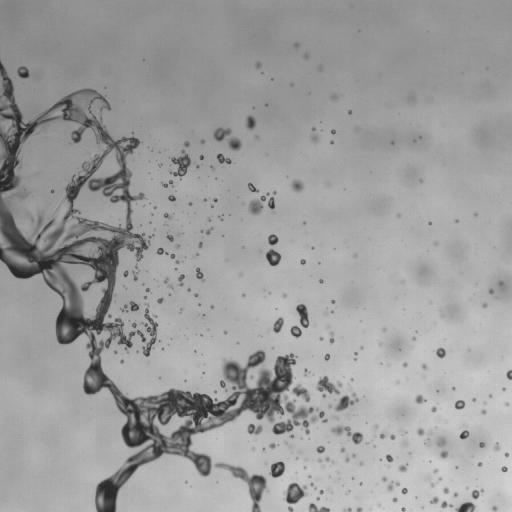droplet: (283, 482, 307, 511), (169, 150, 191, 178), (316, 376, 342, 397), (266, 249, 281, 266), (213, 127, 231, 141), (270, 461, 284, 477), (272, 317, 283, 333), (228, 137, 241, 150), (247, 423, 262, 434), (291, 179, 303, 192), (17, 66, 29, 78), (290, 325, 301, 338), (246, 115, 255, 129), (268, 234, 278, 245), (435, 347, 445, 358), (471, 489, 483, 498), (454, 400, 464, 409), (415, 395, 426, 403), (460, 430, 469, 439), (130, 301, 138, 311), (441, 501, 452, 508), (268, 197, 274, 209), (437, 437, 445, 446), (430, 496, 438, 504), (398, 465, 407, 472), (311, 134, 318, 142), (417, 428, 425, 435), (379, 431, 387, 438), (316, 446, 324, 453), (440, 450, 447, 458), (386, 454, 393, 462), (506, 370, 511, 380), (493, 443, 500, 450), (168, 195, 175, 201), (164, 213, 171, 219), (205, 228, 212, 234), (167, 234, 173, 241), (157, 297, 163, 303), (121, 305, 127, 311), (443, 487, 449, 493), (269, 443, 276, 448), (256, 62, 261, 68), (325, 354, 330, 360), (431, 406, 436, 412), (479, 442, 485, 447), (501, 466, 507, 471), (184, 141, 189, 146), (300, 259, 305, 264), (123, 271, 128, 276), (422, 364, 427, 369), (390, 434, 395, 439), (340, 447, 345, 452), (402, 488, 407, 493), (392, 497, 397, 502), (304, 369, 308, 375), (356, 507, 362, 511), (332, 94, 336, 99), (331, 129, 335, 134), (198, 242, 202, 247), (482, 303, 487, 307), (403, 362, 407, 367), (481, 410, 486, 414), (401, 430, 406, 434), (403, 440, 407, 445), (382, 476, 386, 481), (430, 482, 434, 487), (453, 492, 457, 497), (492, 506, 496, 511), (200, 139, 204, 143), (199, 155, 203, 159), (213, 198, 217, 202), (170, 254, 174, 258), (319, 279, 323, 283), (489, 289, 493, 293), (504, 452, 508, 456), (478, 462, 482, 466), (433, 469, 437, 473), (401, 507, 405, 511), (409, 97, 414, 100), (317, 459, 322, 462), (304, 54, 308, 57), (194, 293, 197, 297), (334, 416, 338, 419), (290, 434, 293, 438), (359, 462, 363, 465), (438, 477, 441, 481), (319, 490, 323, 493), (295, 43, 298, 46), (273, 191, 276, 194), (219, 217, 222, 220), (146, 288, 149, 291), (319, 337, 322, 340), (472, 398, 475, 401), (505, 402, 508, 405), (282, 294, 286, 296), (375, 425, 377, 429), (348, 111, 351, 113), (312, 128, 315, 130), (330, 141, 333, 143), (196, 165, 199, 167), (51, 190, 54, 192), (189, 202, 191, 205), (397, 214, 400, 216), (455, 219, 457, 222), (428, 222, 431, 224), (176, 245, 179, 247), (176, 260, 178, 263), (332, 300, 334, 303), (383, 328, 385, 331), (412, 337, 415, 339), (114, 351, 117, 353), (120, 360, 123, 362), (452, 387, 455, 389), (502, 388, 505, 390), (489, 394, 491, 397), (328, 405, 331, 407), (316, 497, 319, 499), (255, 136, 257, 138), (159, 164, 161, 166), (211, 166, 213, 168), (204, 199, 206, 201), (208, 218, 210, 220), (150, 235, 152, 237), (499, 282, 501, 284), (243, 294, 245, 296), (224, 331, 226, 333), (284, 441, 286, 443), (252, 447, 254, 449), (429, 478, 431, 480), (359, 482, 361, 484)
ligament: (0, 61, 325, 511), (331, 425, 363, 444), (248, 193, 268, 215), (334, 393, 358, 411), (296, 304, 309, 327), (455, 502, 475, 511), (308, 503, 329, 511), (217, 153, 231, 163), (387, 481, 399, 491), (196, 268, 204, 281), (248, 183, 258, 192), (164, 277, 172, 288), (345, 454, 355, 462), (162, 180, 173, 187), (178, 274, 184, 286), (325, 456, 334, 464), (157, 248, 168, 254), (329, 332, 334, 343), (133, 272, 137, 280), (343, 507, 351, 511), (425, 439, 429, 446), (310, 483, 315, 488)
